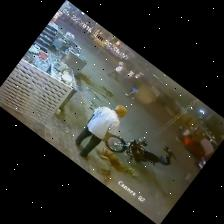person: (75, 106, 126, 159), (108, 63, 124, 80), (176, 128, 192, 140), (126, 87, 138, 99), (125, 70, 134, 80)
